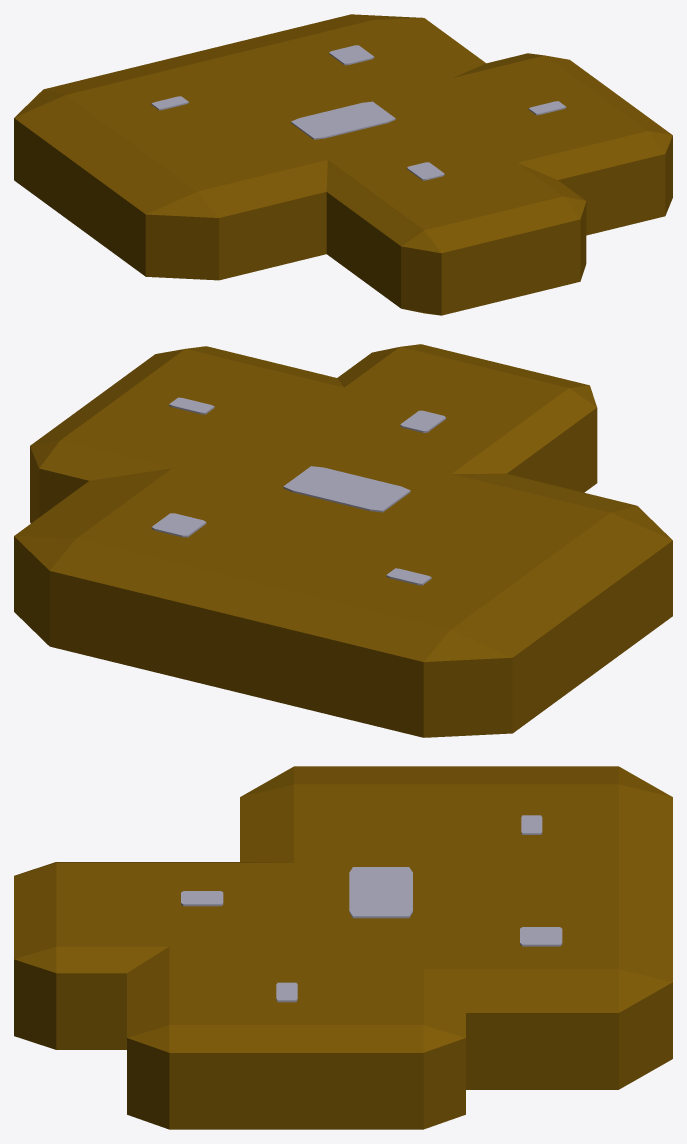
Rendered from Croisement_terre.fbx.
The picture shows the model from 3 angles, top to bottom: view 1: azimuth 30°, elevation 25°; view 2: azimuth 150°, elevation 25°; view 3: azimuth 270°, elevation 25°; orthographic projection. The views are drawn at different scales.
Parts seen in each view (by area): view 1: block_rounded_38, block_rounded_47, block_rounded_39, floor_half_44, floor_half_45; view 2: block_rounded_38, block_rounded_47, block_rounded_39, floor_half_44, floor_half_45, floor_half_42; view 3: block_rounded_38, block_rounded_39, block_rounded_47, floor_half_44, floor_half_45, floor_half_42.
Part boxes in pixels (box(x1,y1,x2,y2)): block_rounded_38: box(14, 14, 485, 280); block_rounded_47: box(321, 124, 586, 315); block_rounded_39: box(396, 53, 672, 235); floor_half_44: box(291, 101, 395, 139); floor_half_45: box(329, 45, 374, 65); block_rounded_38: box(14, 421, 672, 737); block_rounded_47: box(275, 344, 597, 492); block_rounded_39: box(30, 346, 365, 523); floor_half_44: box(283, 466, 410, 512); floor_half_45: box(151, 513, 206, 537); floor_half_42: box(400, 410, 445, 432); block_rounded_38: box(240, 766, 672, 1089); block_rounded_39: box(127, 935, 465, 1129); block_rounded_47: box(14, 862, 310, 1049); floor_half_44: box(349, 867, 412, 918); floor_half_45: box(520, 927, 562, 946); floor_half_42: box(181, 891, 223, 906).
Size of the model in its own units: 36 by 6.1 by 35.
